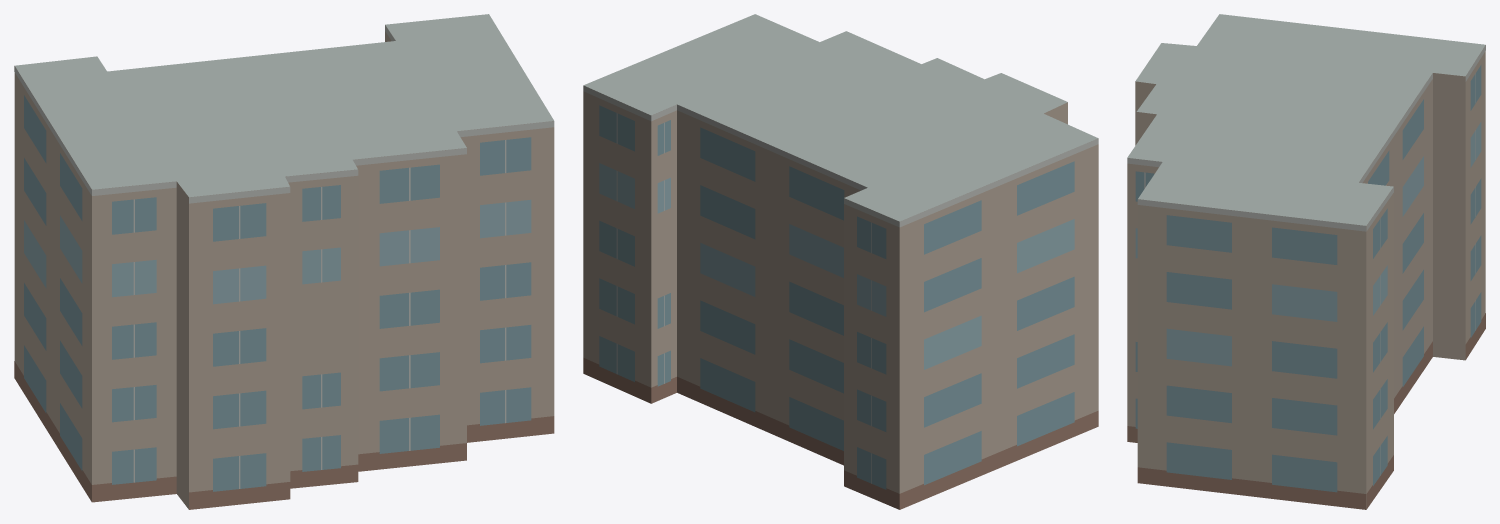
Rendered from survey-upis-32993224.glb.
The picture shows the model from 3 angles, left to right: view 1: azimuth 30°, elevation 25°; view 2: azimuth 150°, elevation 25°; view 3: azimuth 270°, elevation 25°; orthographic projection. The views are drawn at different scales.
Parts seen in each view (by area): view 1: survey-upis-32993224.tmp; view 2: survey-upis-32993224.tmp; view 3: survey-upis-32993224.tmp.
Boxes of the visible parts, bbox=[...] form: survey-upis-32993224.tmp: bbox=[14, 14, 554, 509]; survey-upis-32993224.tmp: bbox=[583, 14, 1098, 509]; survey-upis-32993224.tmp: bbox=[1127, 14, 1485, 509].
Bounding box in the file's own units: 19.23 × 12.01 × 13.75.
